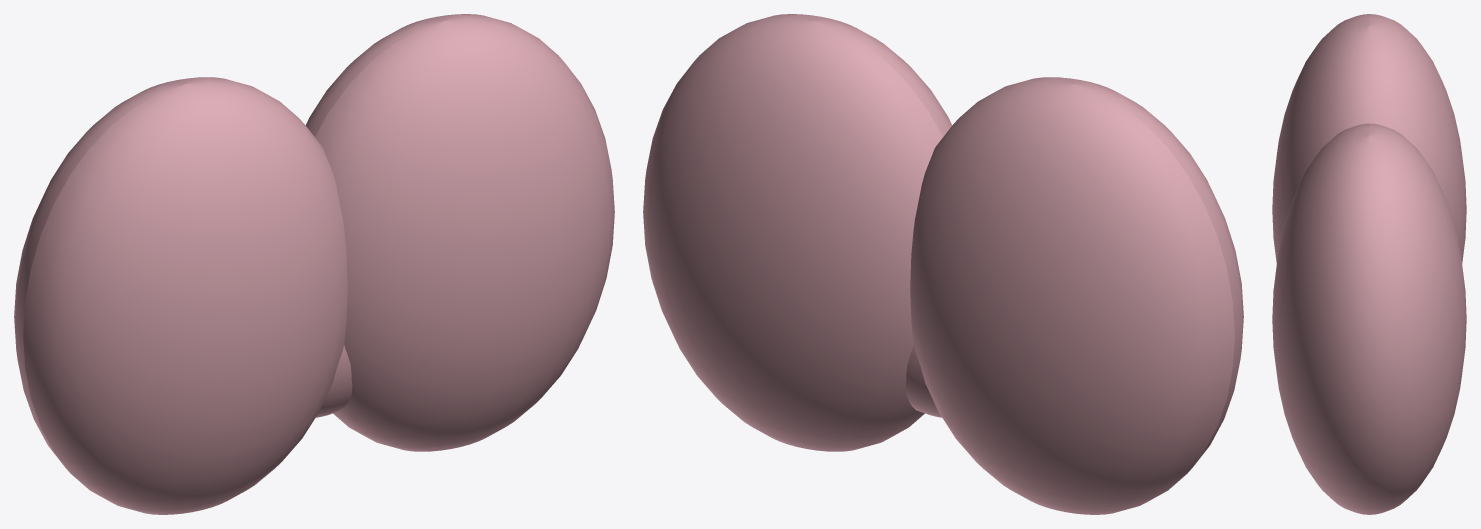
The model's file is thymus.glb.
3 views of the same model, side by side, from view 1: azimuth 30°, elevation 25°; view 2: azimuth 150°, elevation 25°; view 3: azimuth 270°, elevation 25° (orthographic). The views are drawn at different scales.
Bounding box in the file's own units: 3.8 × 2.64 × 1.27.
